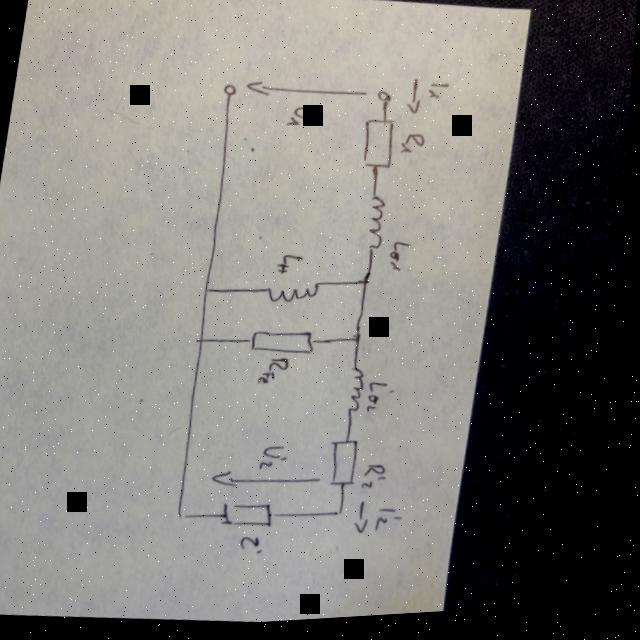inductor: (267, 281, 326, 311), (366, 198, 392, 258), (349, 369, 372, 419)
junction: (204, 289, 216, 299), (339, 512, 351, 522), (363, 281, 374, 291), (355, 340, 366, 350), (198, 339, 210, 348), (184, 514, 196, 523)
resistor: (249, 329, 322, 362), (360, 119, 400, 178), (225, 502, 282, 534), (333, 442, 367, 493)
terminal: (373, 94, 394, 111), (222, 85, 240, 104)
text: (260, 357, 296, 391), (263, 446, 296, 476), (390, 244, 417, 278), (368, 385, 393, 420), (366, 465, 394, 496), (380, 510, 411, 537), (284, 107, 317, 132), (278, 256, 309, 279), (245, 537, 273, 559), (401, 137, 428, 159), (425, 85, 450, 106)
